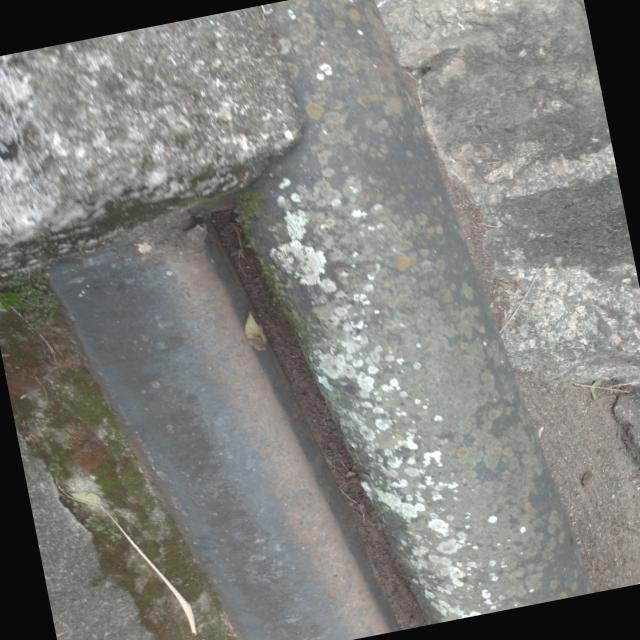gas: (225, 117, 597, 624), (52, 222, 401, 640)
